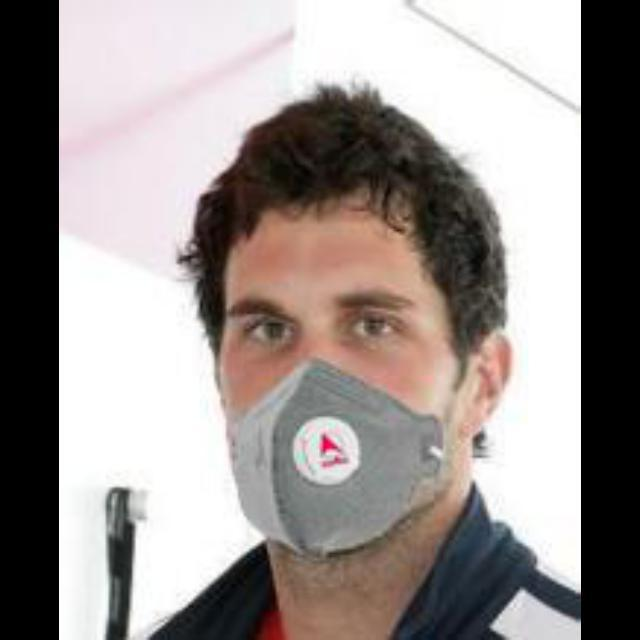suspicion: (140, 102, 522, 540)
